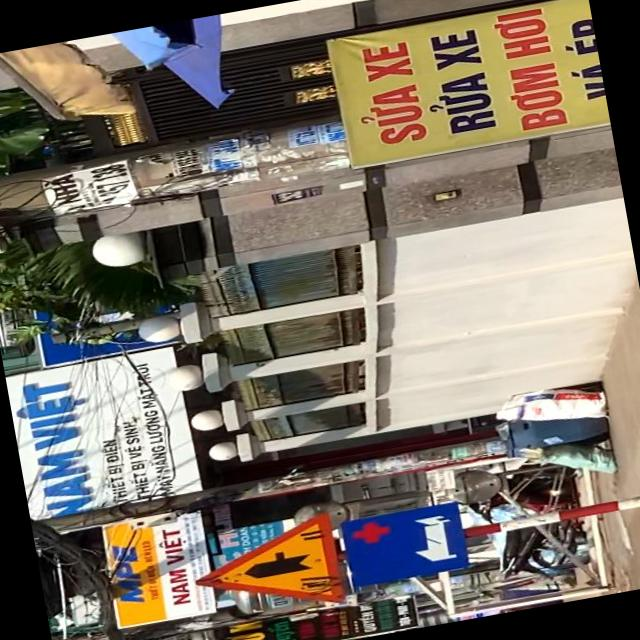I-425: (340, 500, 468, 586)
W-207b: (185, 512, 346, 628)
